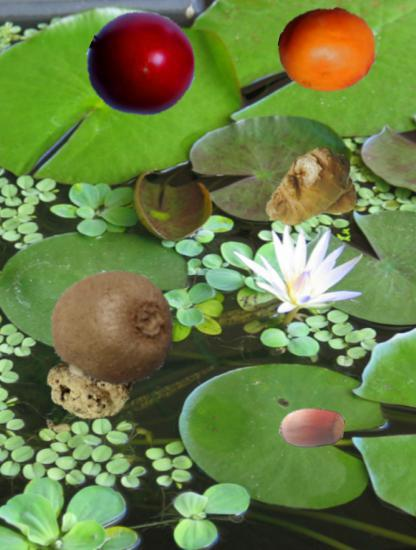Apricot: (278, 0, 377, 99)
Cauliflower: (46, 333, 135, 422)
Ginger: (264, 145, 363, 244)
Hazelnut: (277, 395, 344, 462)
Kiwi: (50, 263, 178, 391)
Tamarillo: (87, 10, 196, 119)
